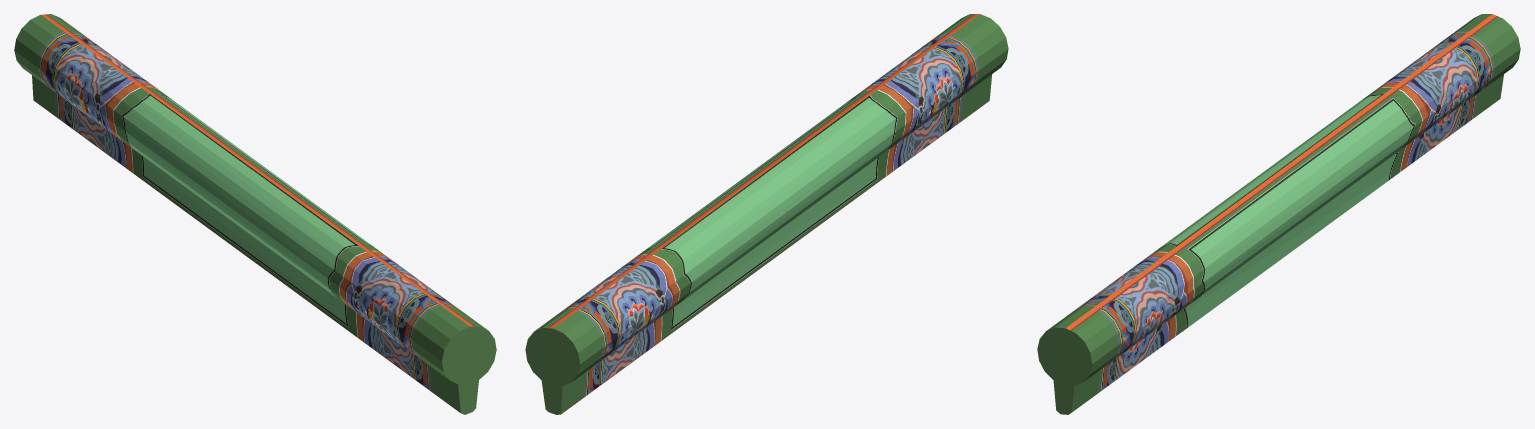
File: SM_R_Dancheong_24.fbx
The picture shows the model from 3 angles, left to right: view 1: azimuth 30°, elevation 25°; view 2: azimuth 150°, elevation 25°; view 3: azimuth 330°, elevation 25°; orthographic projection.
Parts seen in each view (by area): view 1: SM_R_Dancheong_24; view 2: SM_R_Dancheong_24; view 3: SM_R_Dancheong_24.
Part boxes in pixels (box(x1,y1,x2,y2)): SM_R_Dancheong_24: box(14, 14, 496, 414); SM_R_Dancheong_24: box(525, 14, 1008, 414); SM_R_Dancheong_24: box(1037, 14, 1520, 414).
Bounding box in the file's own units: 33.25 × 447 × 50.21.
Materials: 1 (1 with a texture image).
